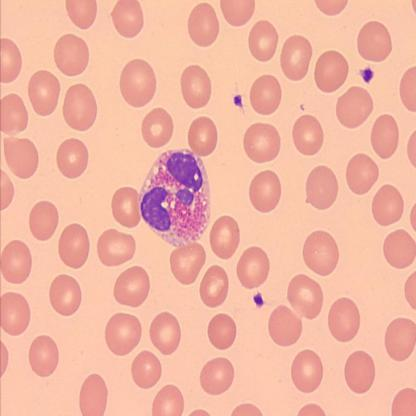Eosinophil: (140, 147, 211, 248)
